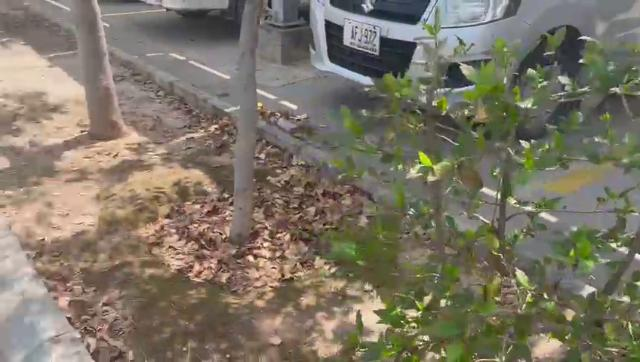plate: (344, 18, 380, 56)
